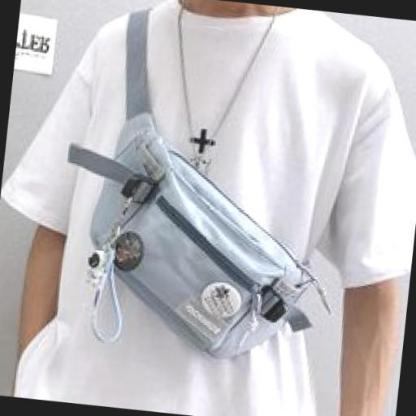bag: (72, 89, 327, 377)
